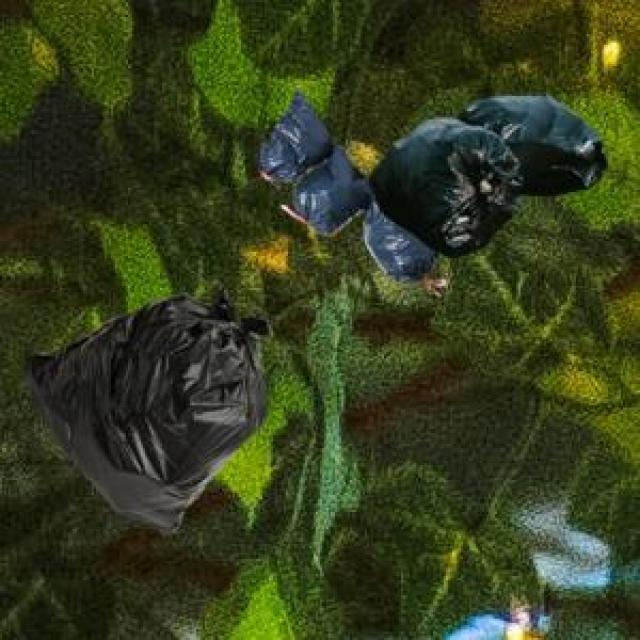waste: (34, 294, 270, 522), (374, 114, 518, 245), (462, 95, 606, 187), (290, 154, 376, 236), (255, 88, 335, 174)
